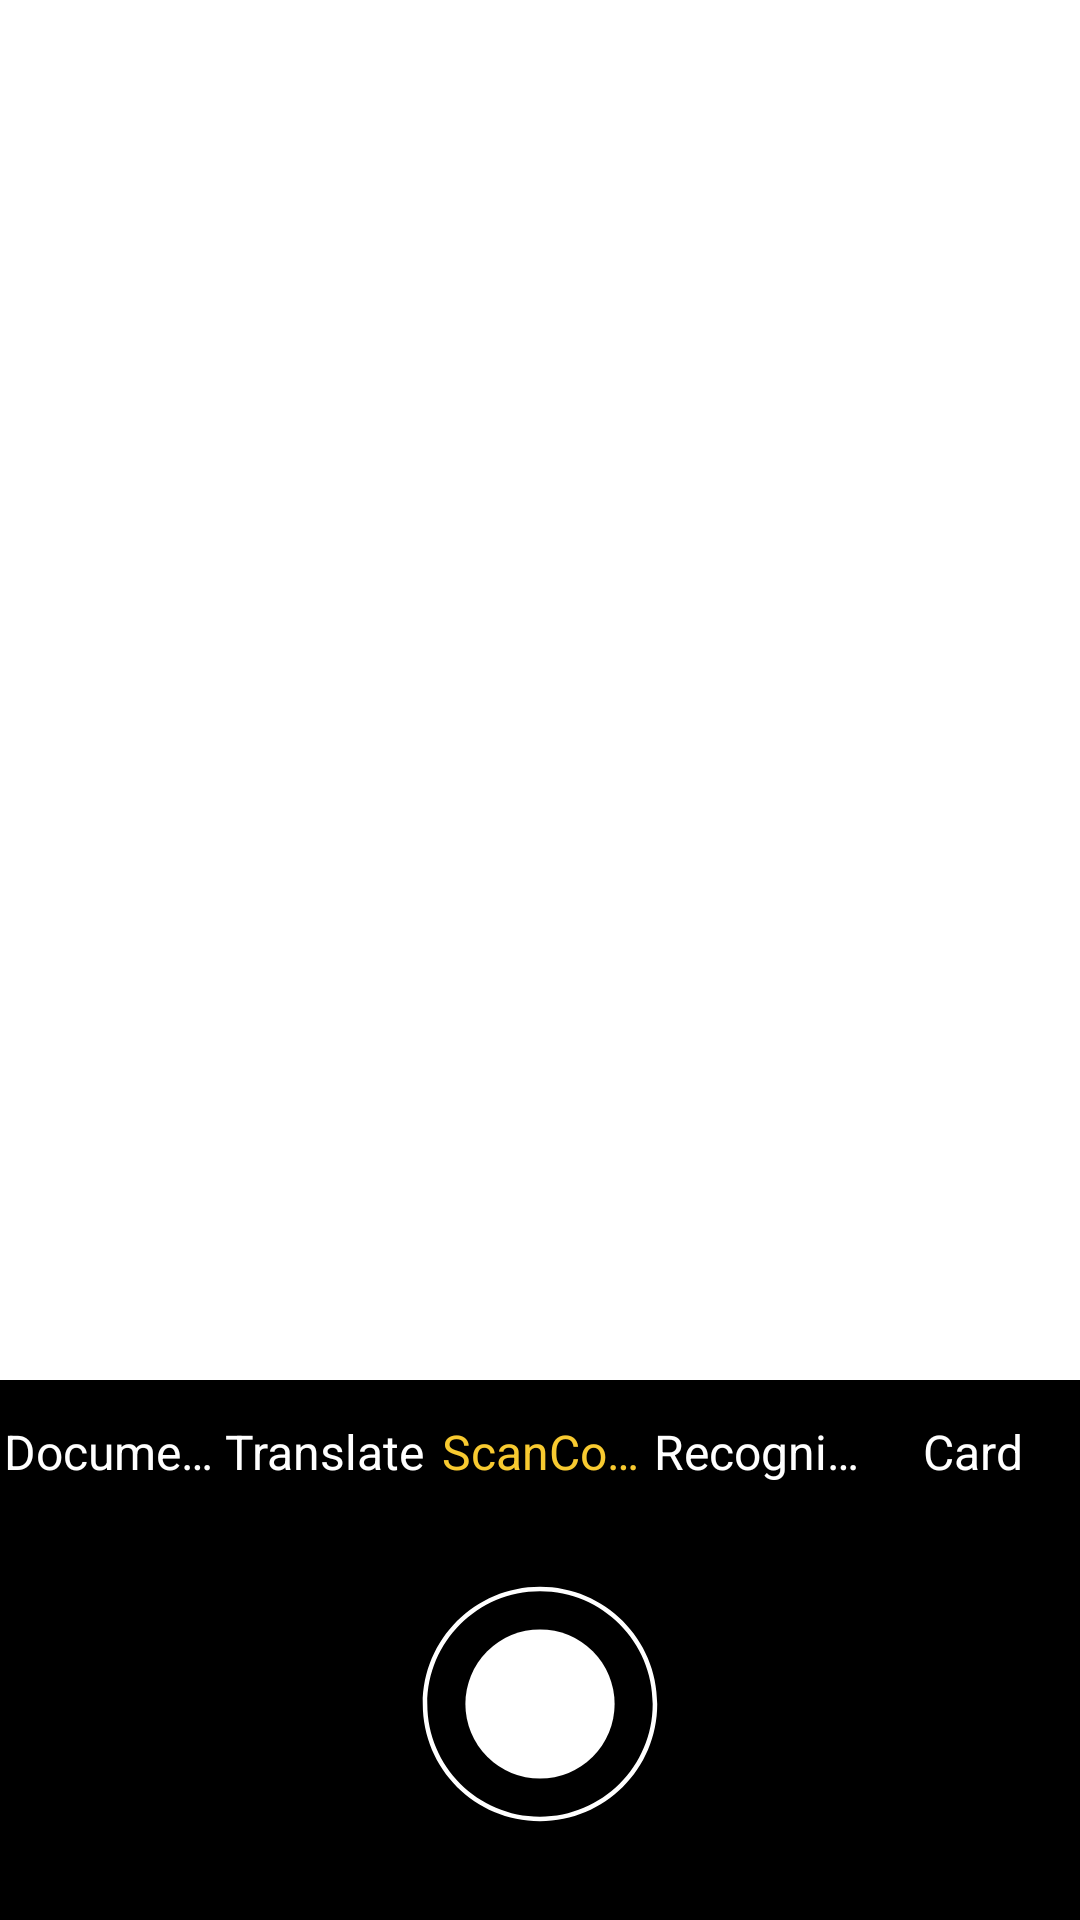

Where to tap for icons on this 1080px×1920px app screen, as (x,y):
shot: (540,1704)
